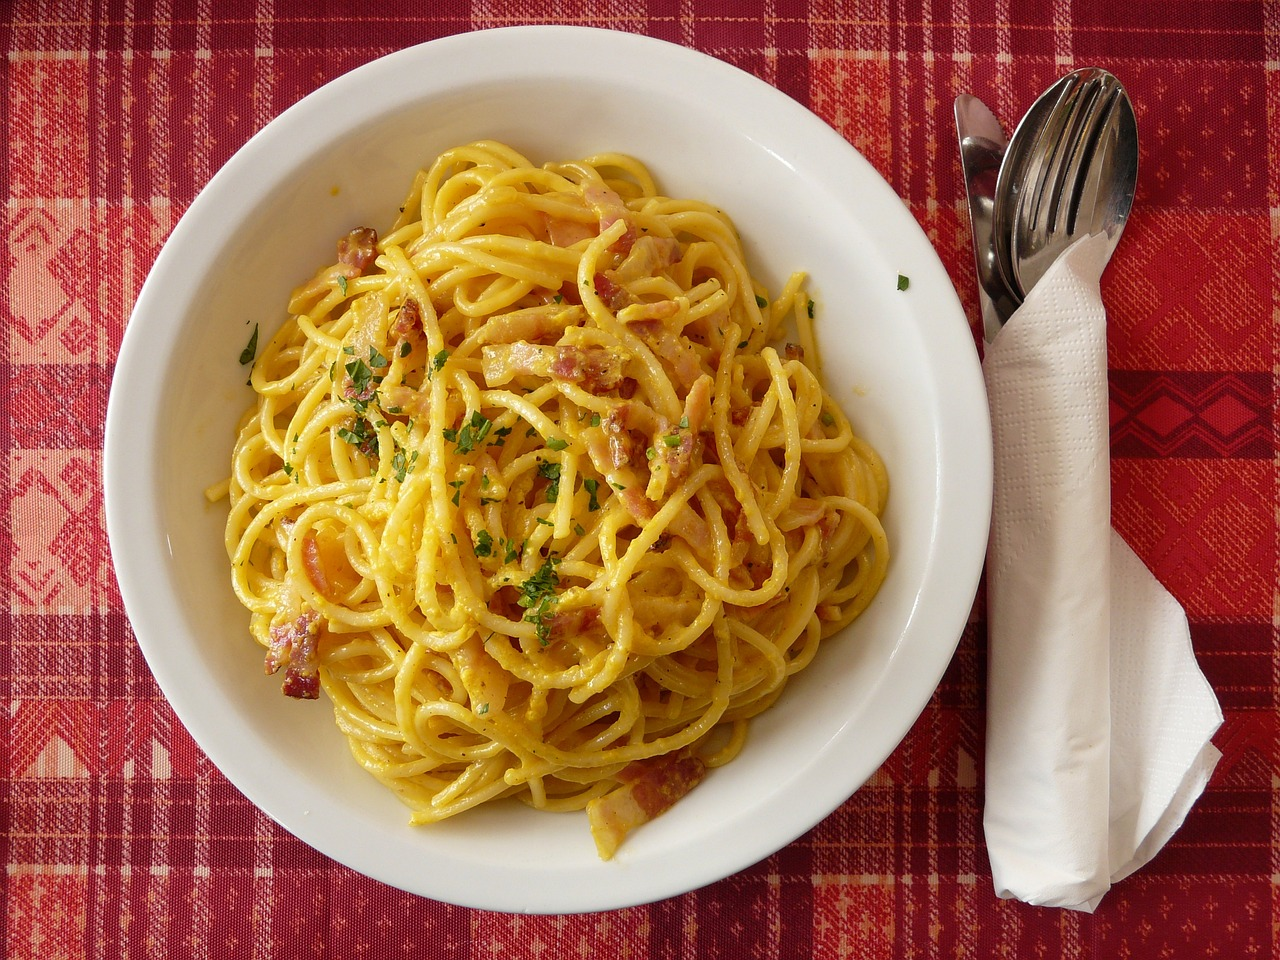knife: (940, 85, 1032, 351)
